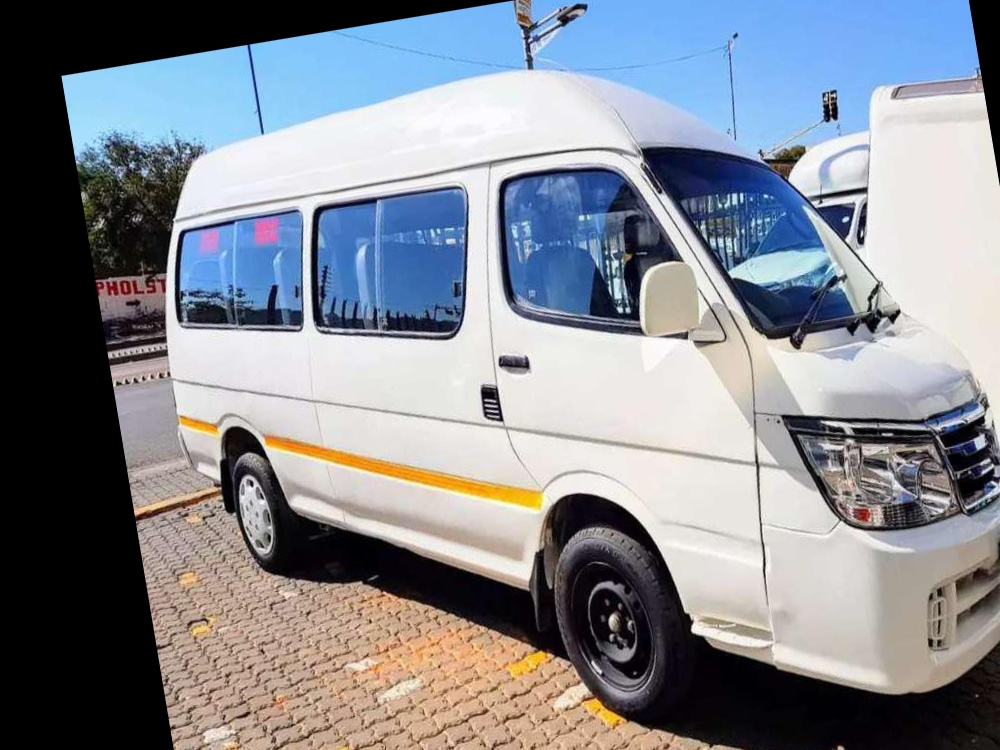van: (126, 0, 1000, 750)
